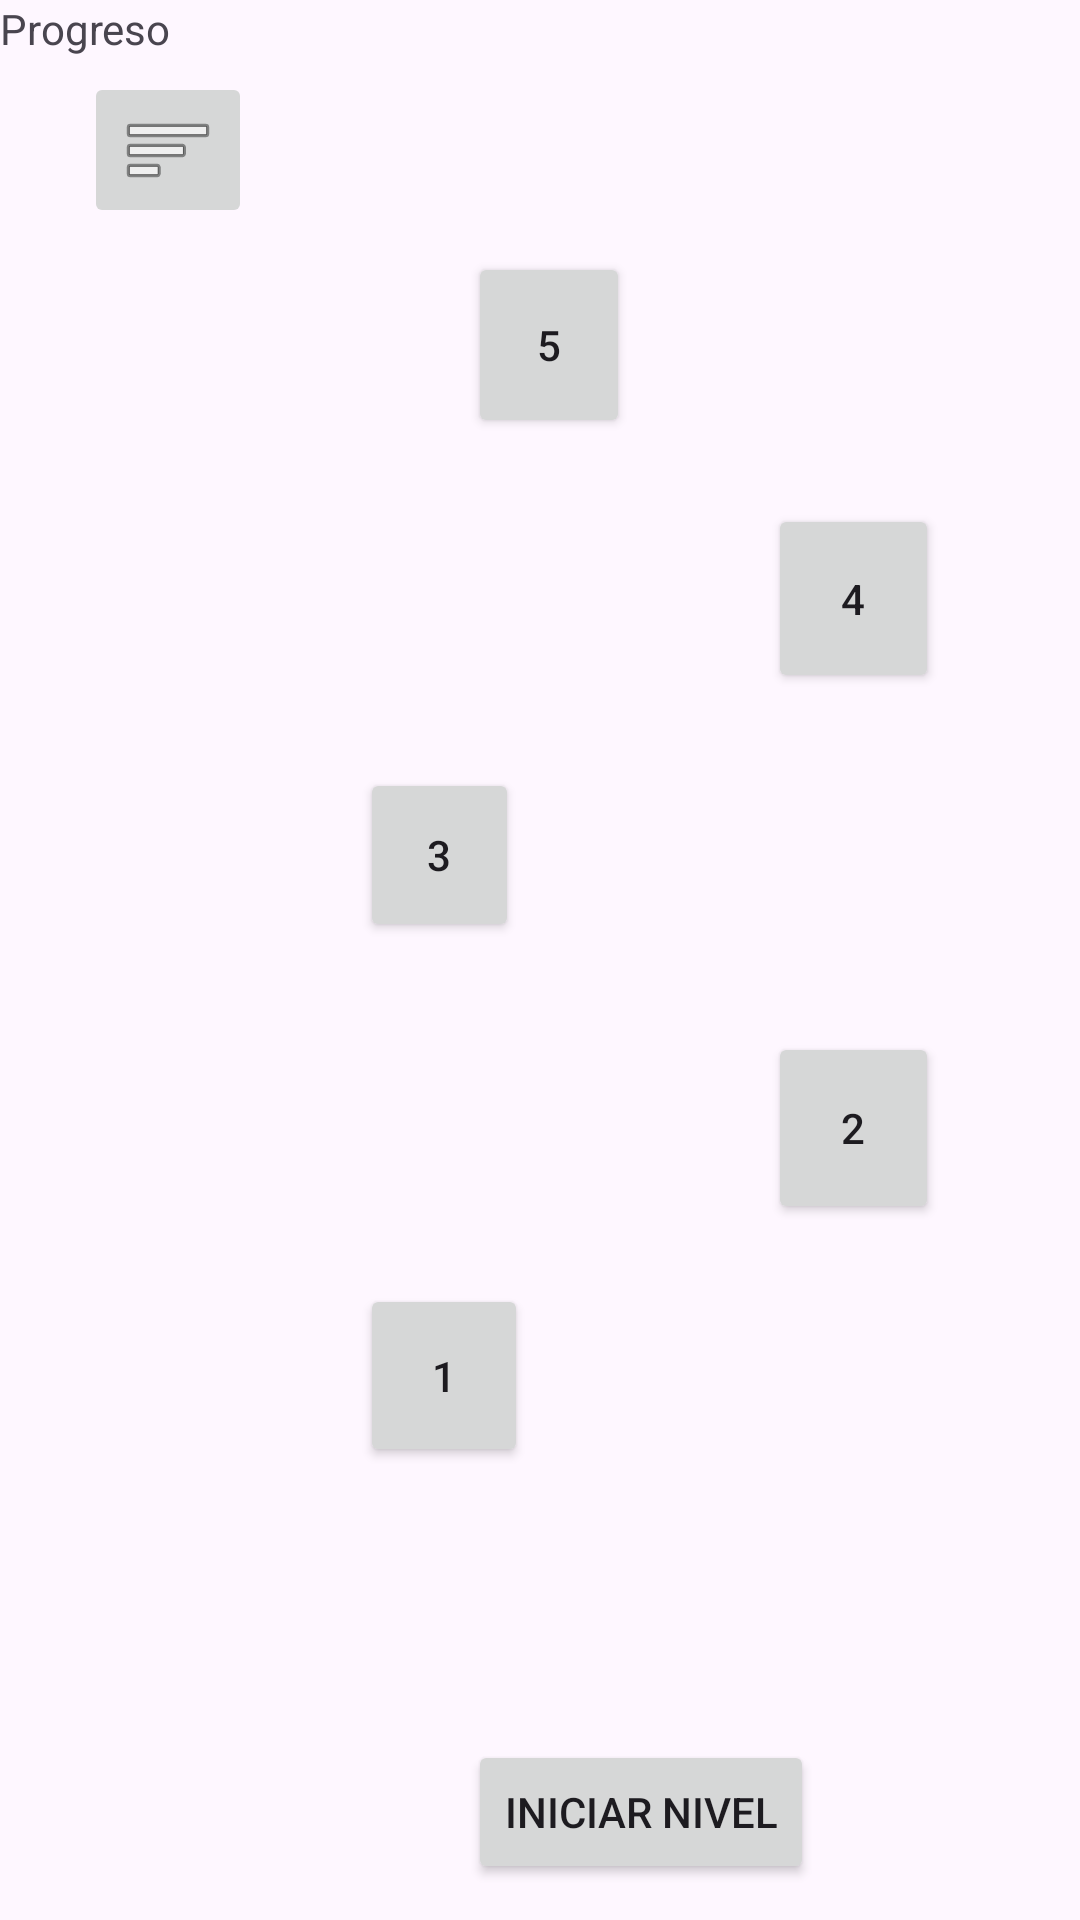

Icons on this 1080*1920 Android screen, each with its box as (x1, y1, x2, y2):
sort by size: (96, 90, 240, 210)
